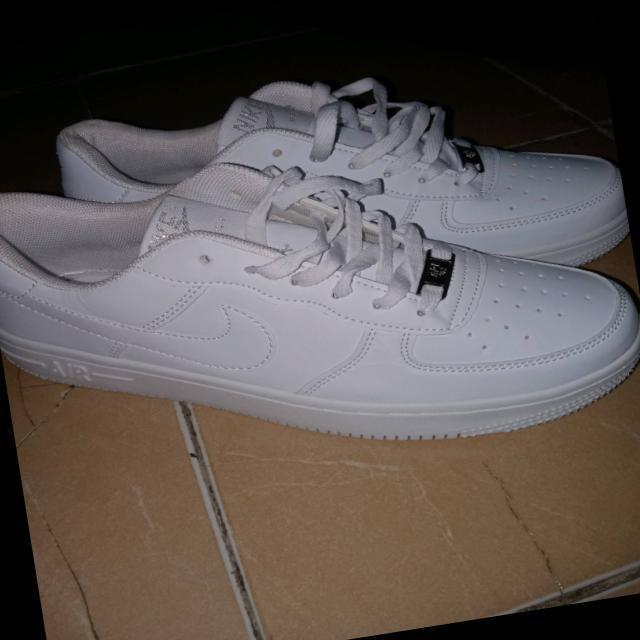nike fake air force: (0, 80, 640, 510), (43, 31, 634, 349)
